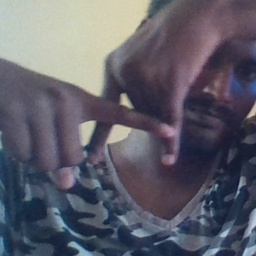H: (64, 54, 194, 170)
